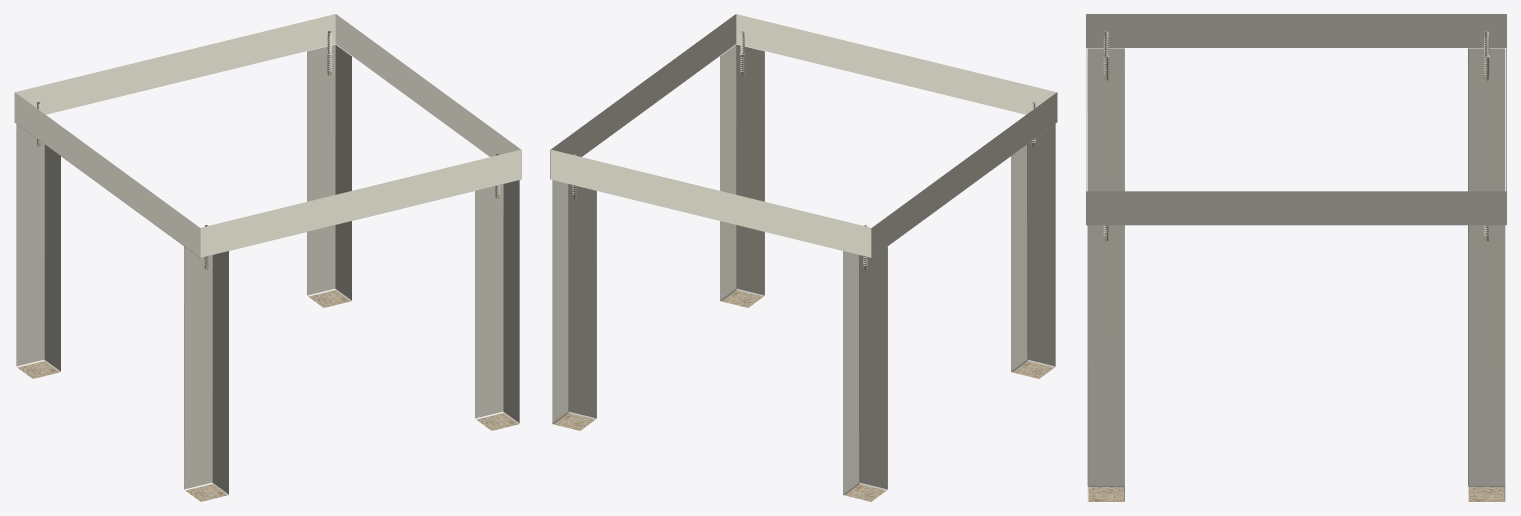
Rendered from LACK_30449908_55x55.glb.
3 renders of one model, left to right at view 1: azimuth 30°, elevation 25°; view 2: azimuth 150°, elevation 25°; view 3: azimuth 270°, elevation 25°, orthographic. The views are drawn at different scales.
Visible parts, largest first — view 1: table top_00167769, table leg_00167768_001; view 2: table top_00167769, table leg_00167768_001; view 3: table top_00167769, table leg_00167768_001.
Part boxes in pixels (x1,y1,x2,y2): table top_00167769: (14, 14, 521, 494); table leg_00167768_001: (16, 55, 519, 501); table top_00167769: (550, 14, 1057, 494); table leg_00167768_001: (552, 55, 1055, 501); table top_00167769: (1086, 14, 1506, 485); table leg_00167768_001: (1087, 57, 1505, 501).
Bounding box in the file's own units: 0.55 × 0.449 × 0.55.
Materials: 5 (2 with a texture image).
